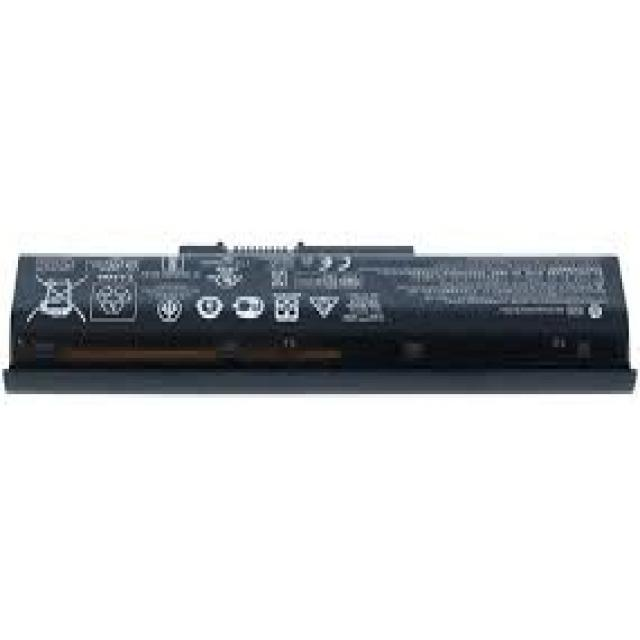battery: (8, 240, 630, 394)
